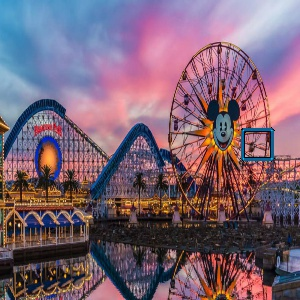square: (241, 128, 274, 161)
